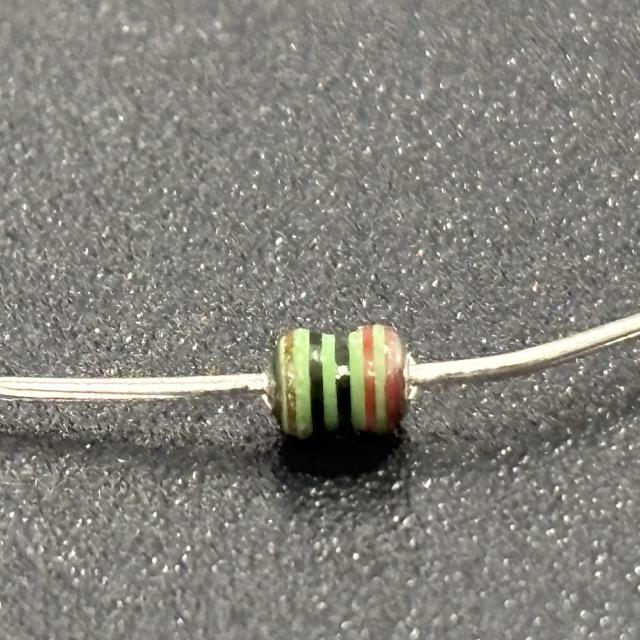resistor: (271, 320, 407, 443)
